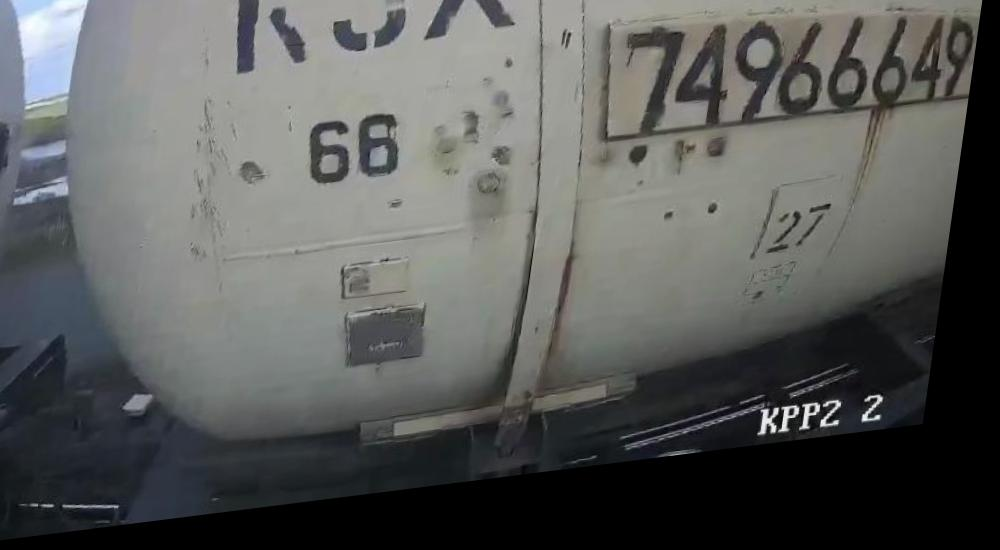Wagon-number: (615, 5, 988, 162)
